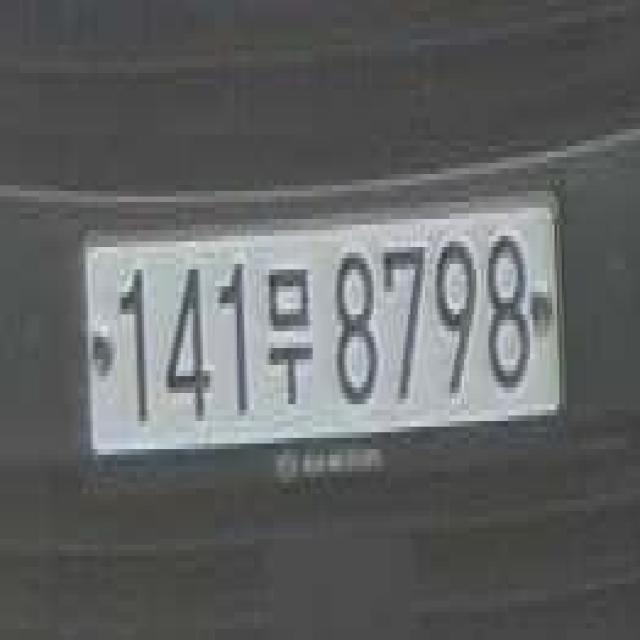illegal_plate: (82, 175, 566, 500)
